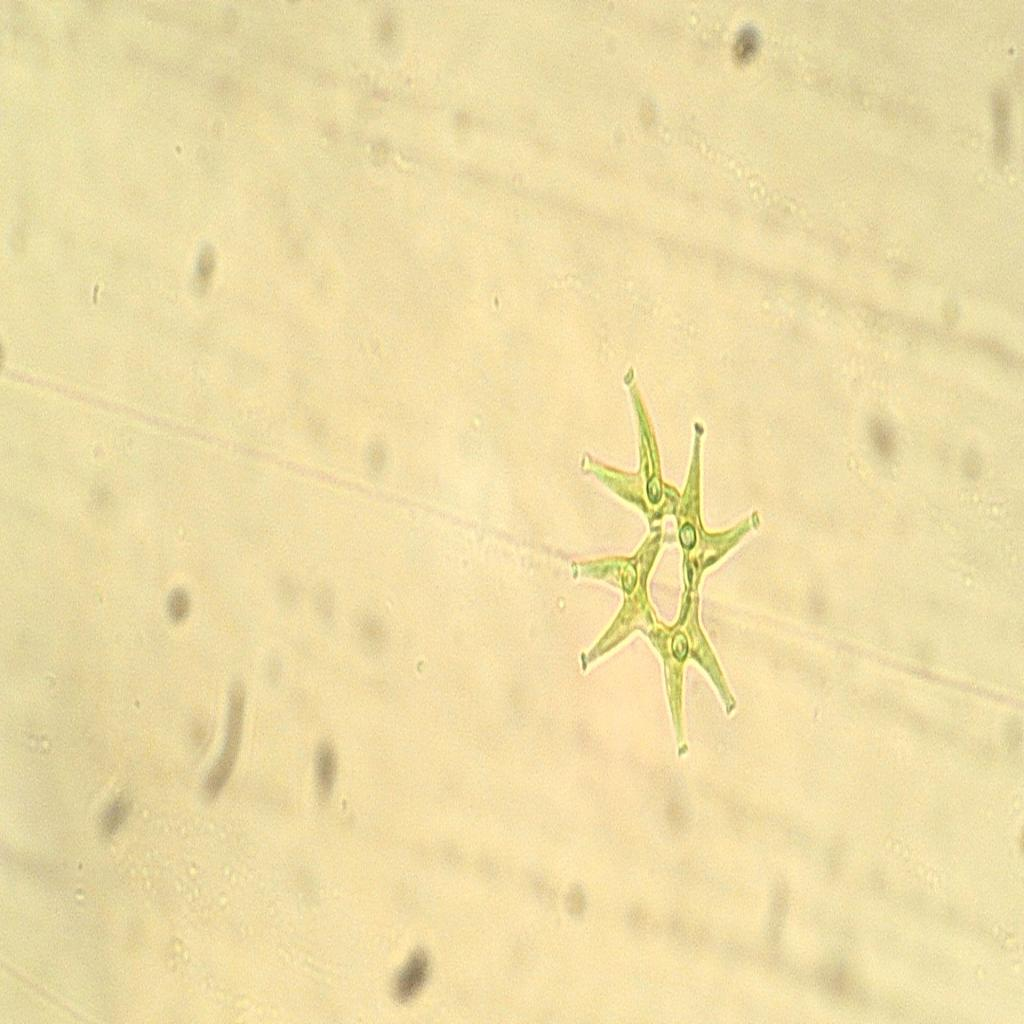Pediastrum_75FO: (566, 351, 771, 775)
